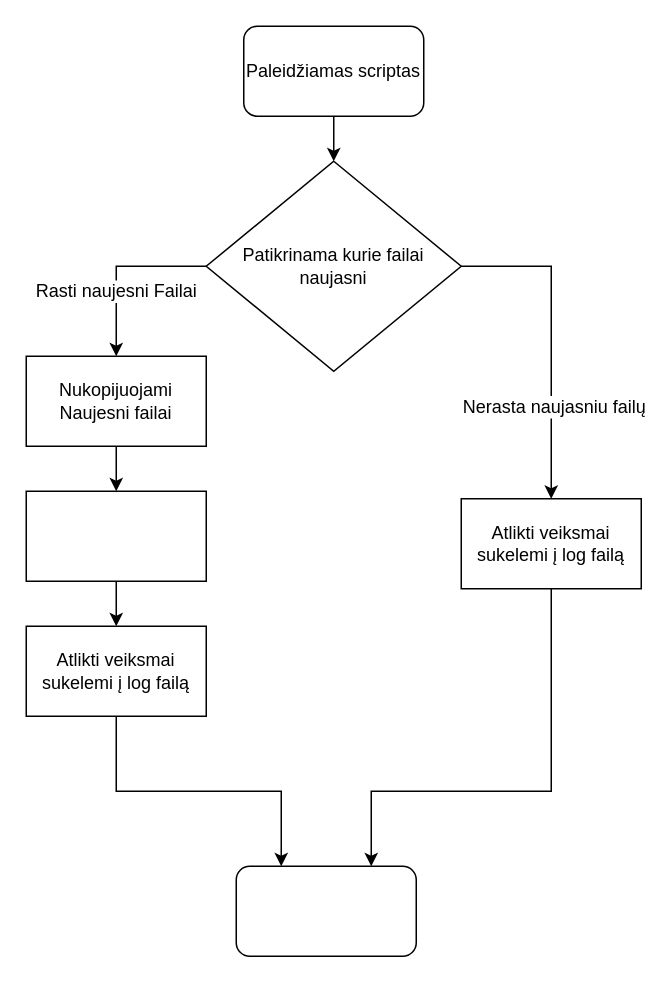
Image size: 671x983. Some labels were removed from this diagram. Here are the shapes that lost their labels. From the top down, the centre of each, then its label:
(115,535): Nukopijuoti failai įkelemi i zip archyvą
(325,910): Scripto pabaiga
